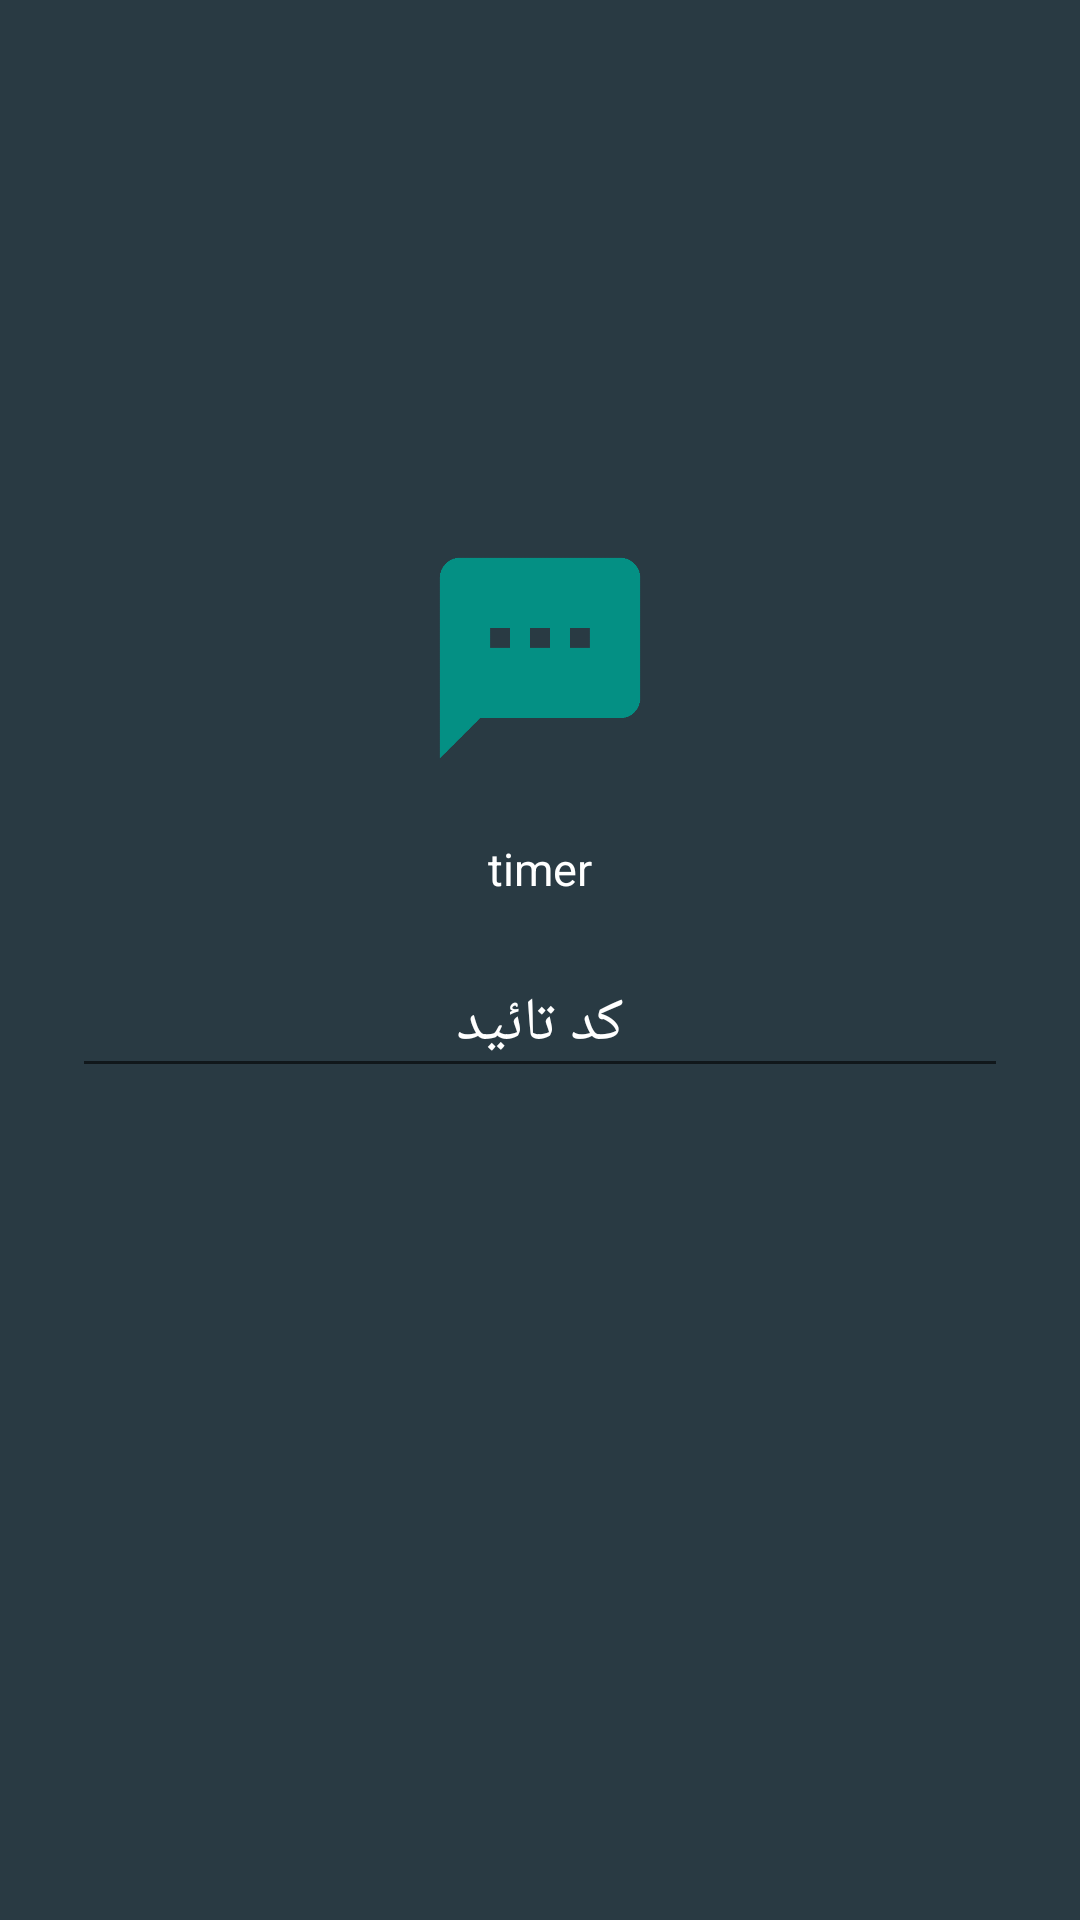

Where icons sit on this 1080*1920 app screen, as (x1, y1, x2, y2):
smsicon: (440, 558, 640, 758)
